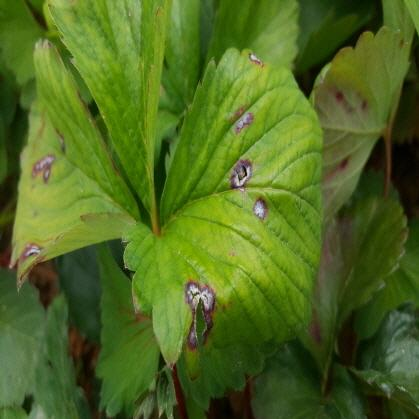Leaf Spot: (120, 46, 324, 382), (9, 37, 142, 291), (306, 24, 413, 229)
